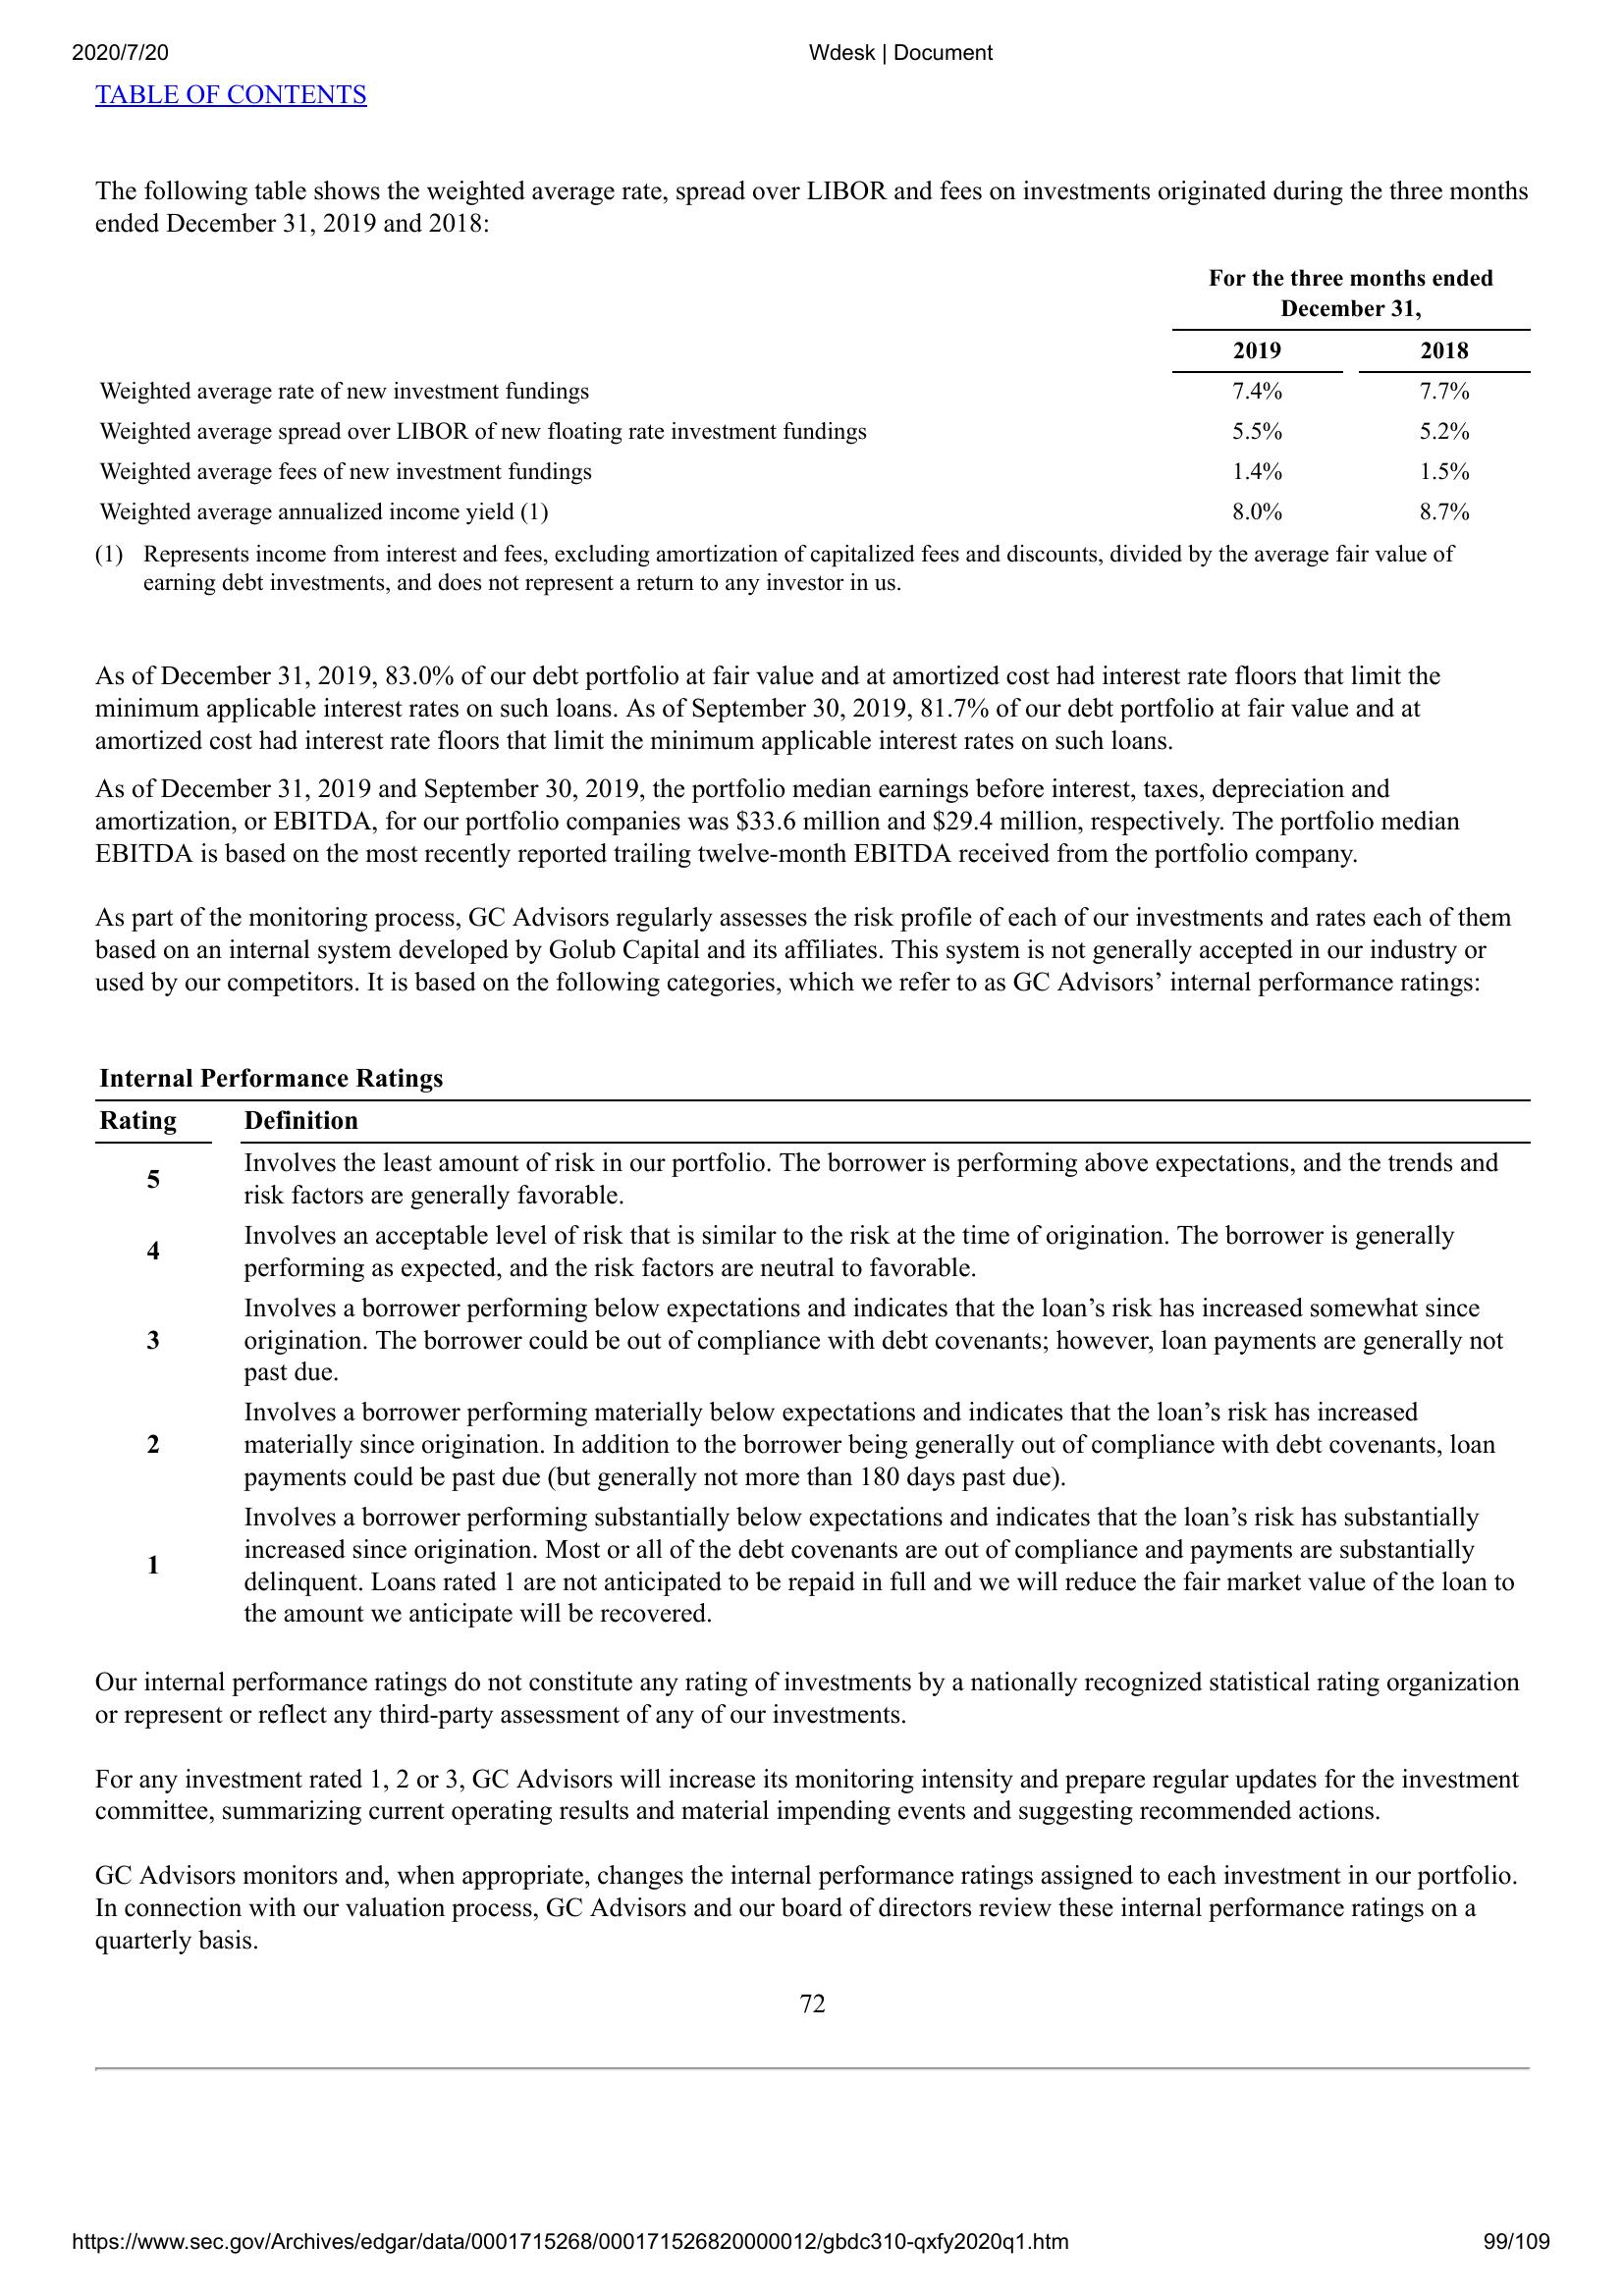table: (86, 1057, 1540, 1624), (97, 263, 1535, 534)
